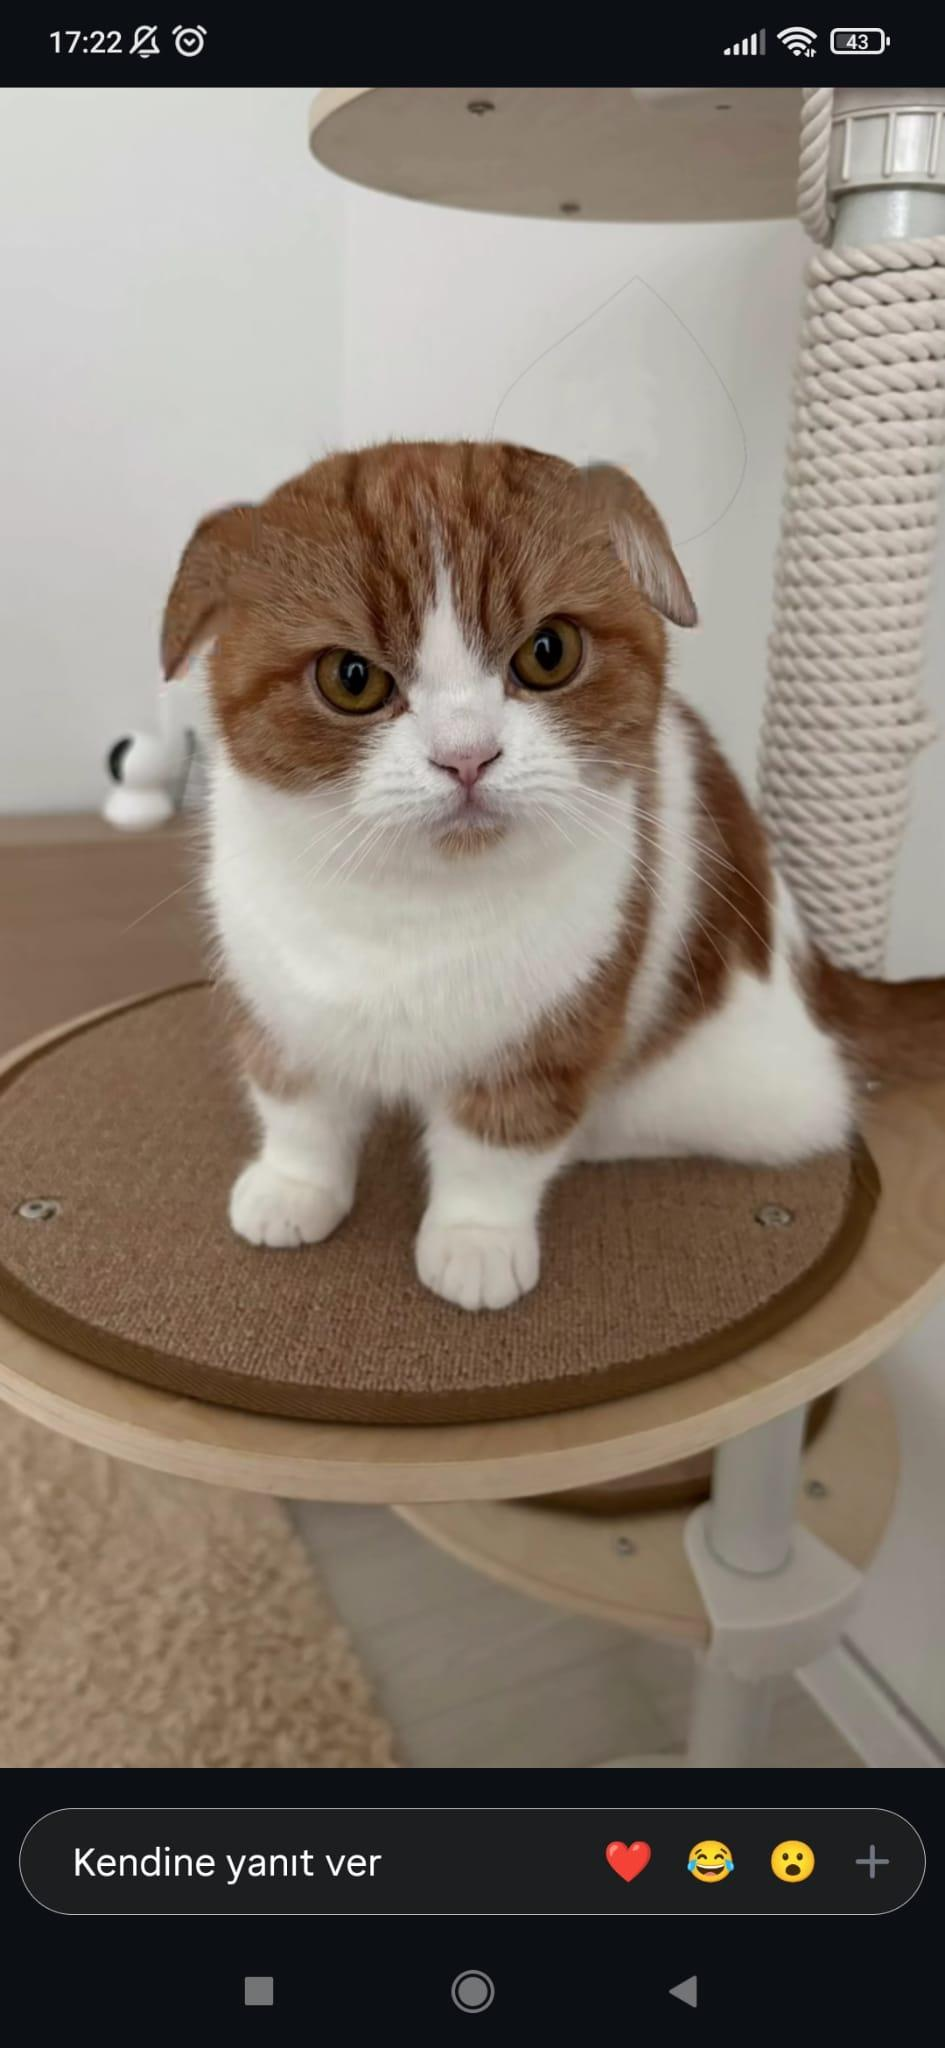kedo: (157, 434, 865, 1306)
